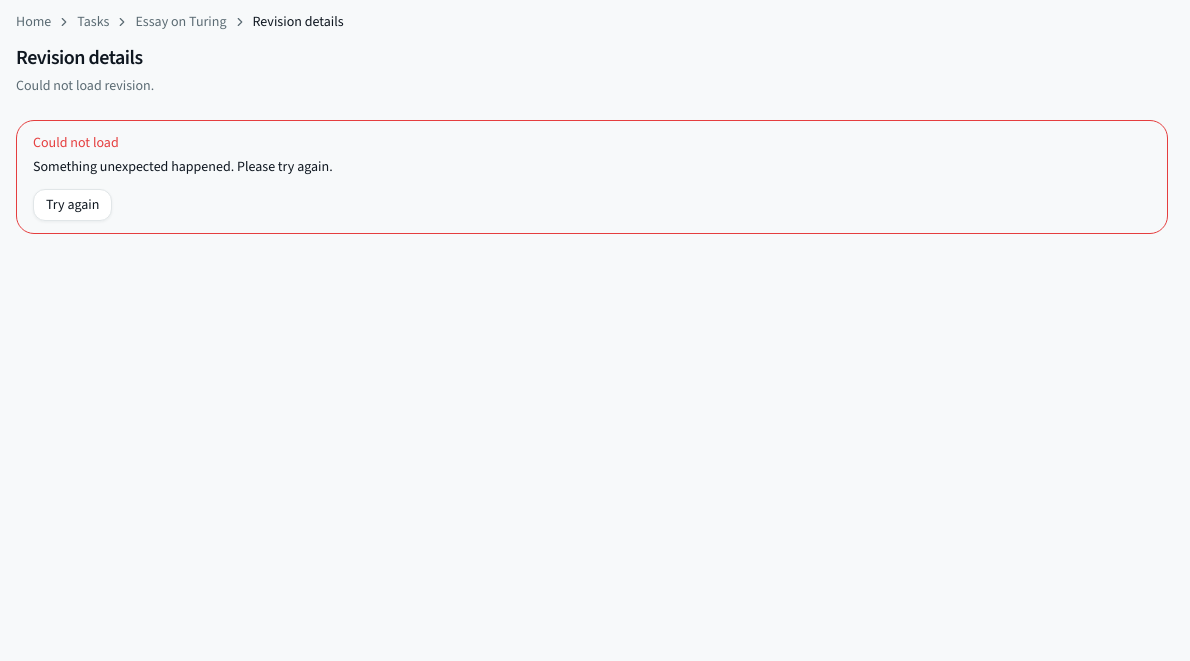
it: RevisionDetailsPage › shows a retryable error when the revision cannot load
Expected: the text "Could not load revision." is shown, [16,76,154,96]
Expected: the message shows "Could not load", [33,133,119,152]
Click the button "Try again" at (73, 205), box [33,189,112,221]
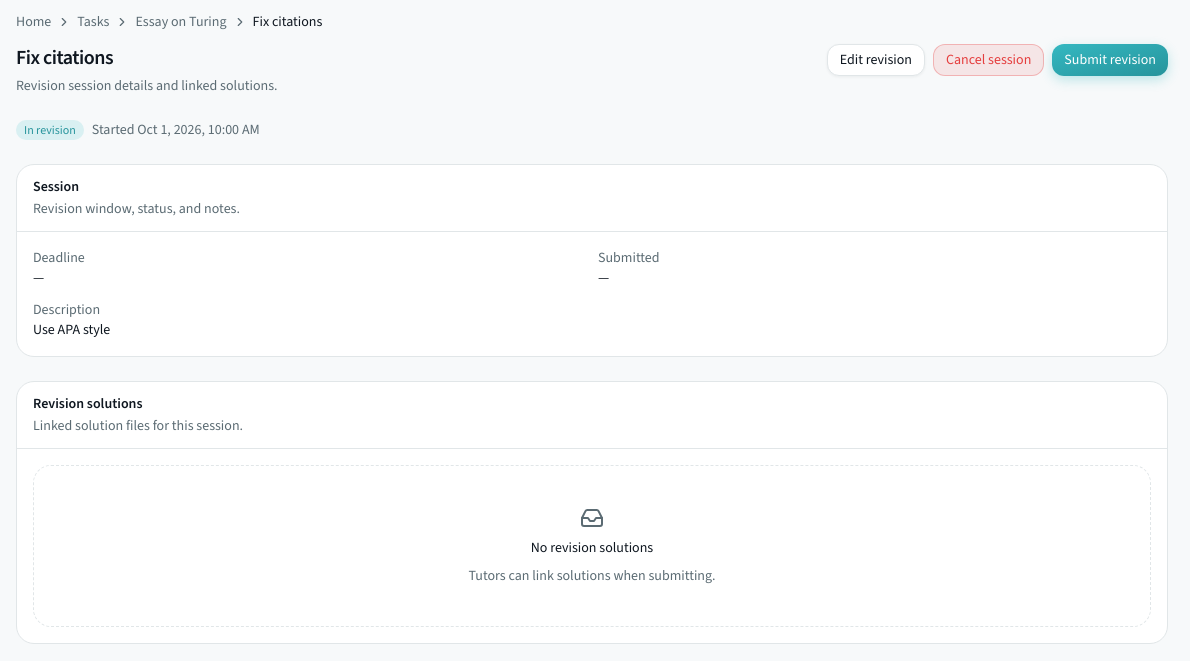
Result: the heading "Fix citations" is shown at [16,44,113,71]
